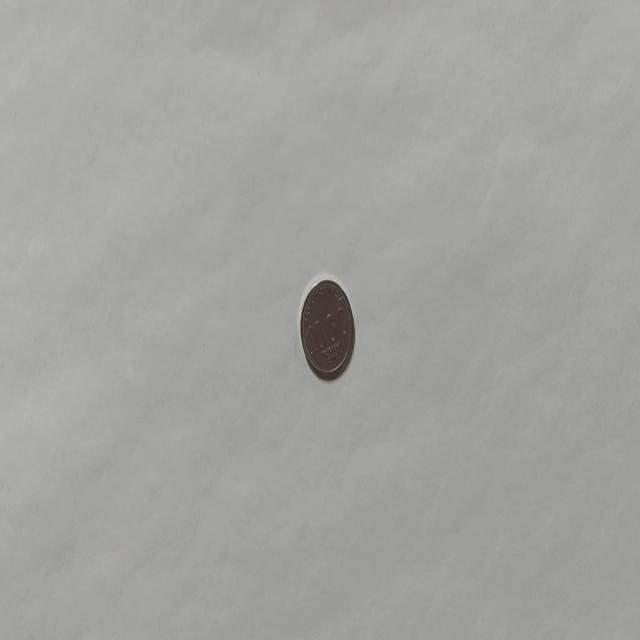seribu rupiah koin: (298, 274, 355, 380)
